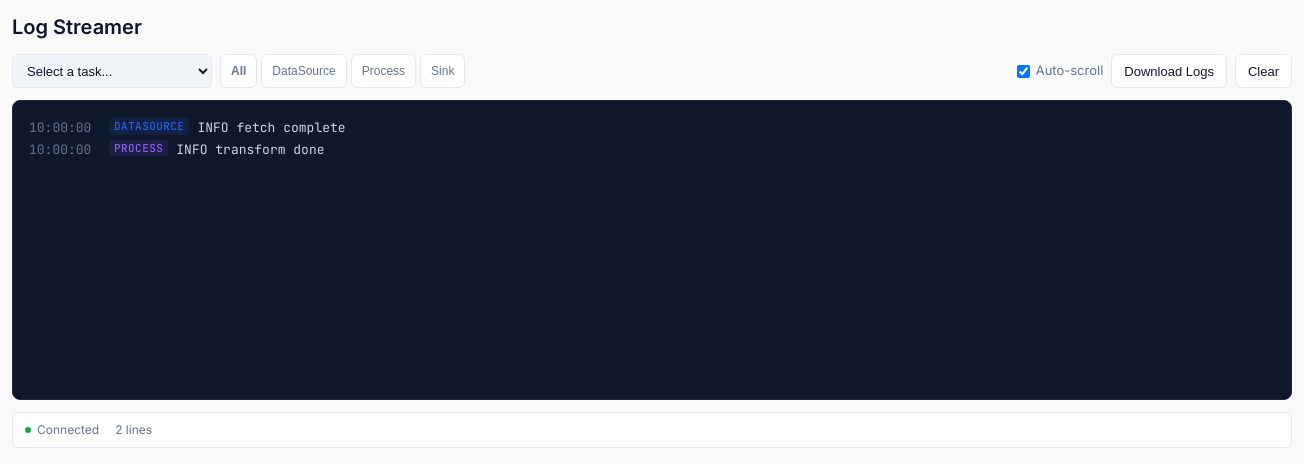
Test: LogStreamerPage — phase filter toggles › shows only datasource lines when DataSource toggle is active
expect the text "INFO fetch complete" is shown: met, box [197,119,346,136]
expect the text "INFO transform done" is shown: met, box [176,140,324,158]
// Toggle DataSource filter
What coordinates should you click on to do the following:
click the button "DataSource"
I would click on:
 (304, 71)
Its box is [261,54,347,88].
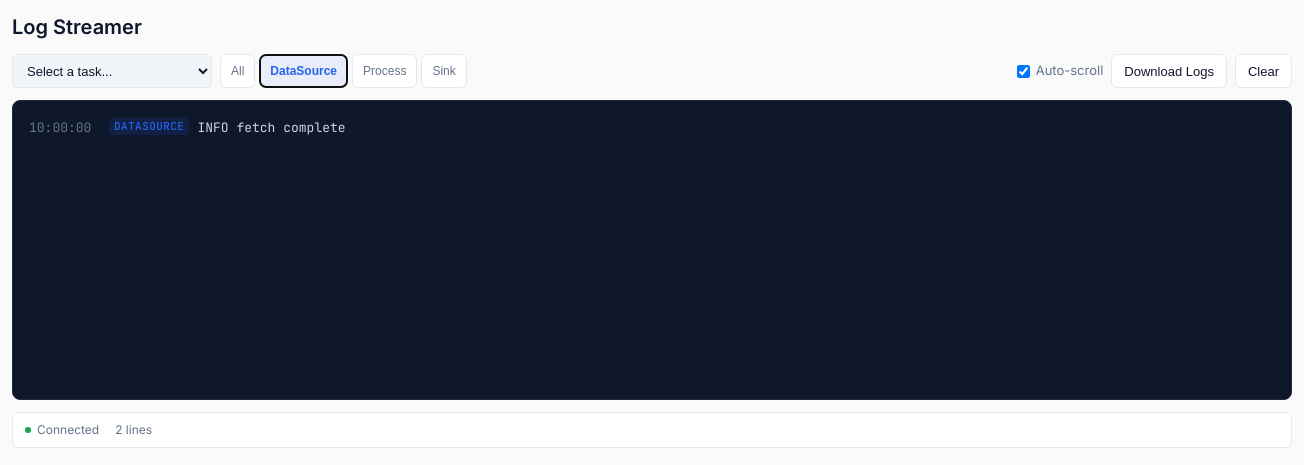
expect the text "INFO fetch complete" is shown: met, box [197,119,346,136]
expect the text "transform done" is gone: met
